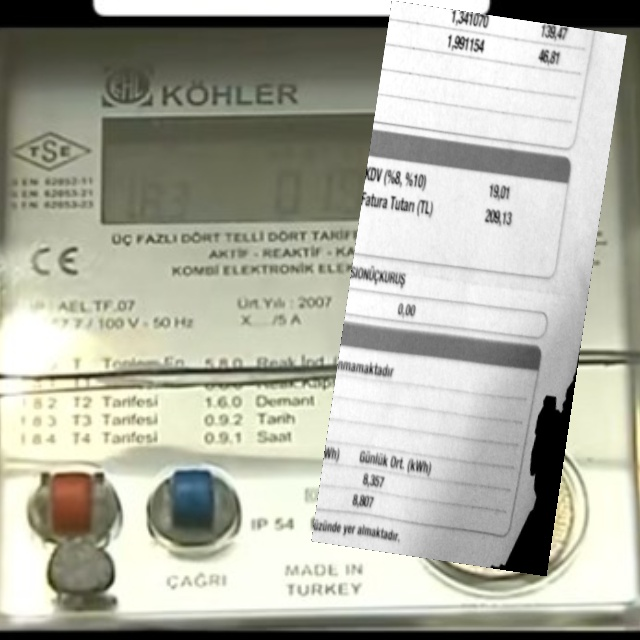electricity-bill: (310, 0, 626, 576)
